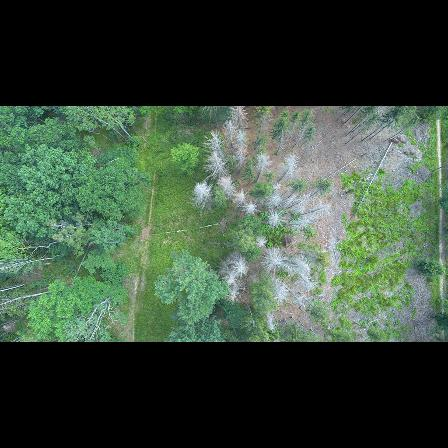Dead: (262, 249, 290, 271), (209, 151, 231, 179), (192, 183, 215, 208), (206, 129, 229, 154), (276, 188, 301, 208), (270, 276, 288, 303), (294, 270, 317, 291), (260, 307, 279, 332), (279, 153, 296, 179), (234, 132, 248, 163), (288, 285, 307, 307), (302, 186, 326, 203), (255, 152, 268, 182), (301, 203, 333, 215), (218, 178, 238, 196), (293, 252, 310, 270), (262, 184, 279, 202), (267, 209, 283, 228), (223, 120, 233, 148), (233, 108, 245, 131), (235, 187, 248, 206), (233, 259, 249, 274), (282, 200, 301, 212), (228, 287, 241, 304), (244, 201, 259, 215), (224, 273, 238, 286), (256, 235, 268, 249), (285, 222, 307, 226)
